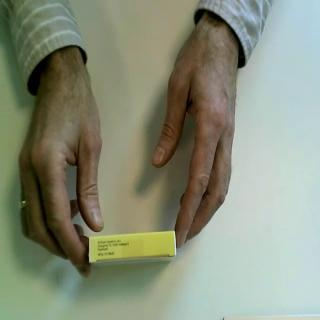buprefarm5ug_hour: (88, 230, 178, 272)
